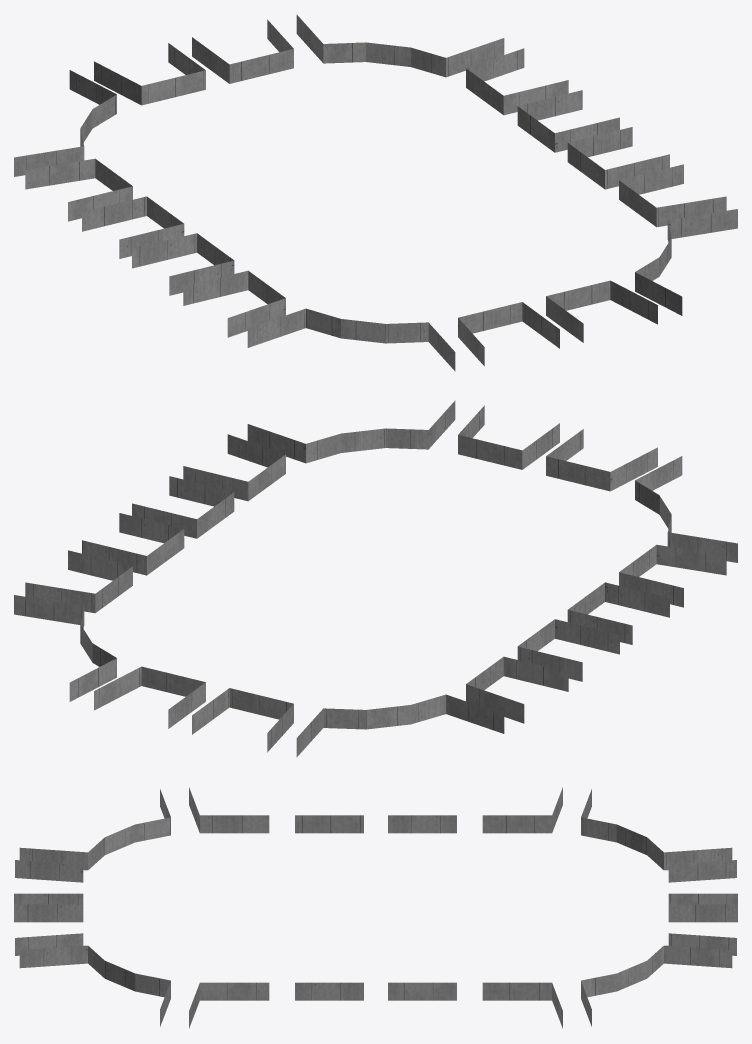
The model's file is Walls.FBX.
3 renders of one model, top to bottom at view 1: azimuth 30°, elevation 25°; view 2: azimuth 150°, elevation 25°; view 3: azimuth 270°, elevation 25°, orthographic. The views are drawn at different scales.
Parts seen in each view (by area): view 1: Walls; view 2: Walls; view 3: Walls.
Part boxes in pixels (box(x1,y1,x2,y2)): Walls: box(14, 14, 737, 371); Walls: box(14, 400, 737, 757); Walls: box(14, 787, 737, 1028).
Bounding box in the file's own units: 74.6 × 2.79 × 101.
